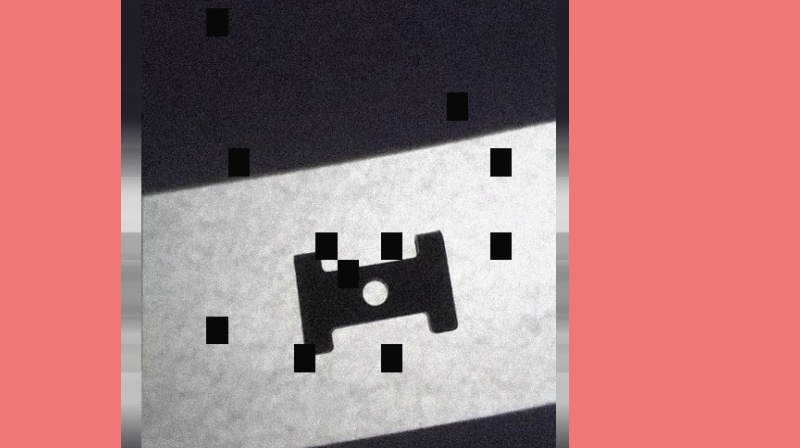O002: (285, 226, 460, 356)
